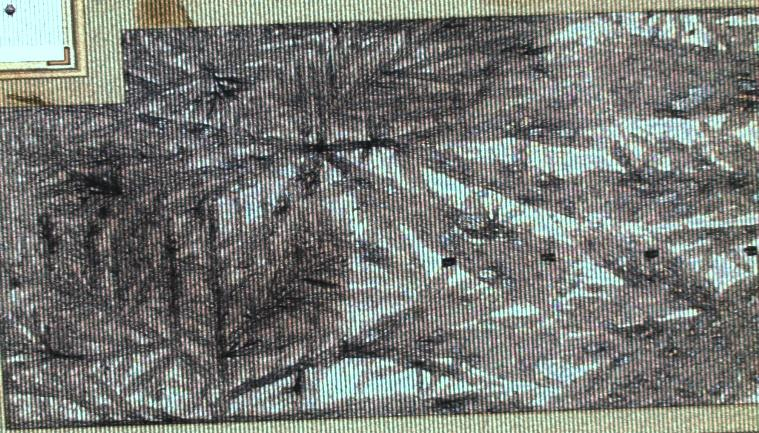SEZ BURNT: (1, 1, 759, 432)
